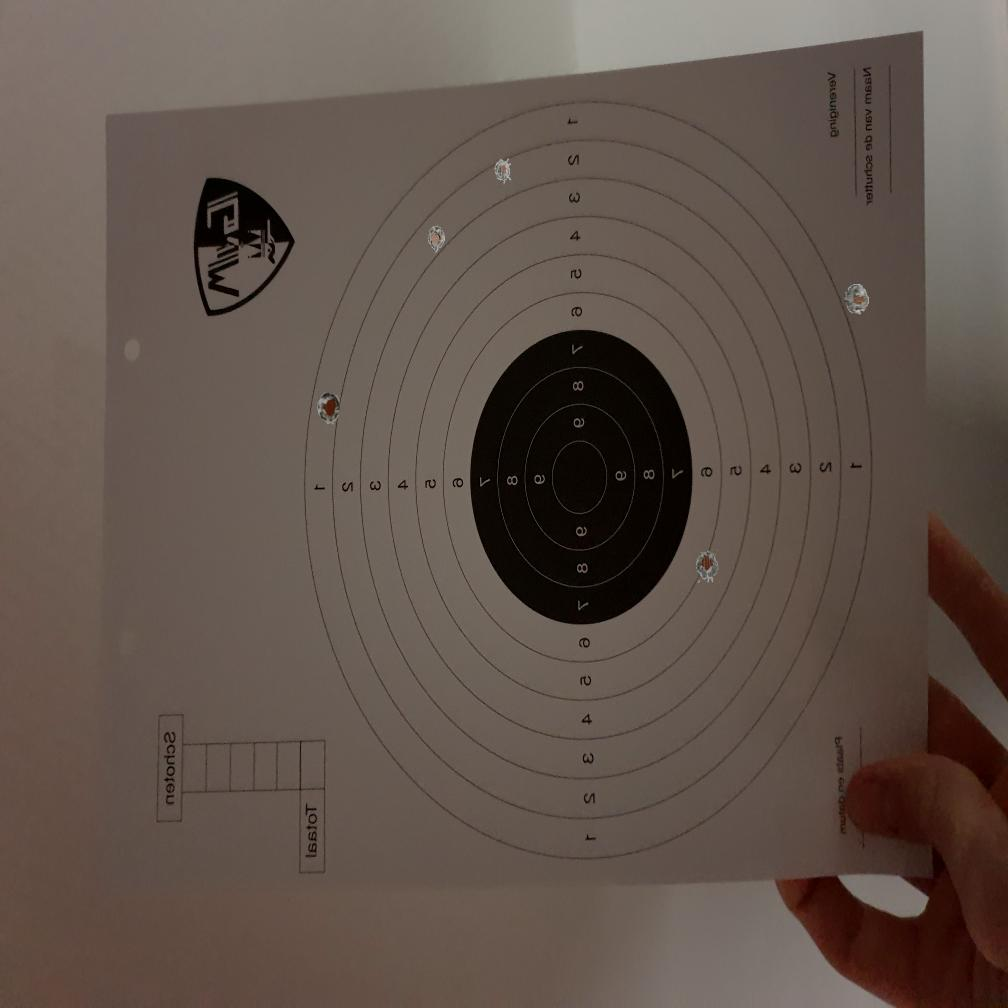0: (844, 282, 870, 318)
2: (316, 392, 341, 425), (494, 158, 512, 186), (428, 226, 445, 253)
6: (695, 551, 719, 583)
Target: (302, 90, 874, 863)
black_contour: (471, 329, 692, 626)
